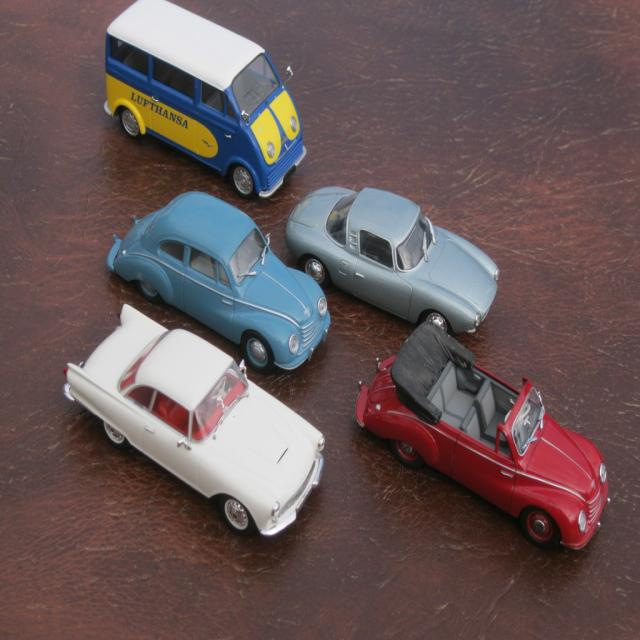Toy: (60, 302, 327, 535), (348, 324, 614, 549), (108, 189, 331, 377), (103, 0, 308, 201), (284, 183, 498, 338)
